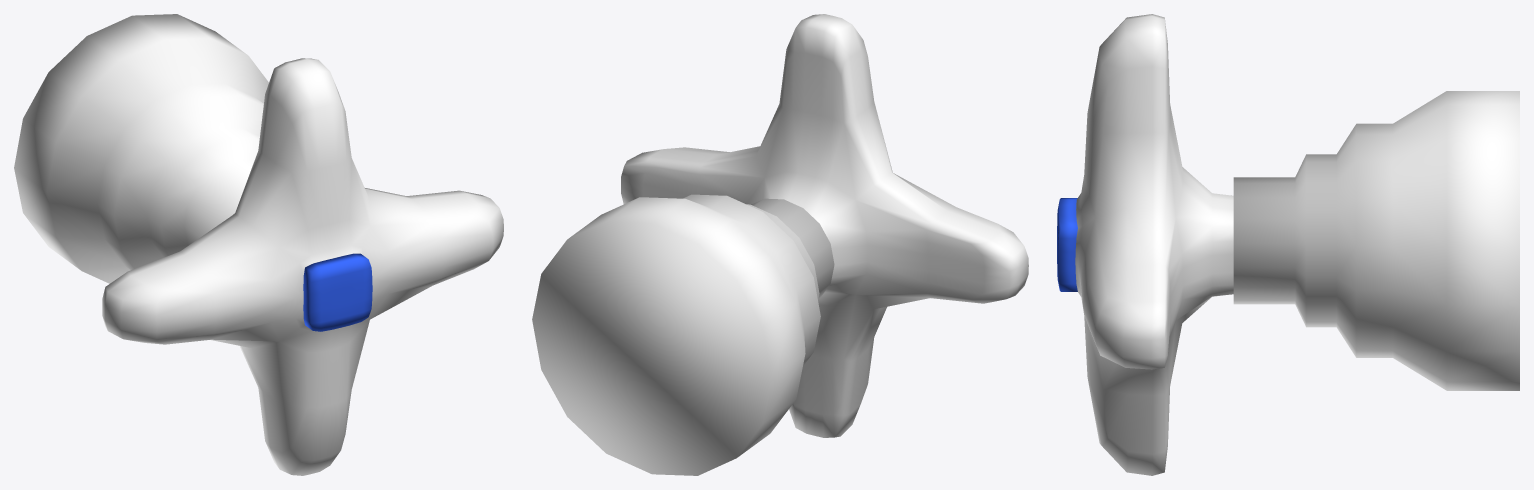
Rendered from fumehood_knob_right_blue.gltf.
The picture shows the model from 3 angles, left to right: view 1: azimuth 30°, elevation 25°; view 2: azimuth 150°, elevation 25°; view 3: azimuth 270°, elevation 25°; orthographic projection. The views are drawn at different scales.
Visible parts, largest first — view 1: fumehoodknob.005; view 2: fumehoodknob.005; view 3: fumehoodknob.005.
Boxes of the visible parts, x1,y1,x2,y2 form: fumehoodknob.005: (14,14,503,475); fumehoodknob.005: (532,14,1028,475); fumehoodknob.005: (1057,14,1519,475).
Bounding box in the file's own units: 0.2352 × 0.2352 × 0.22.
